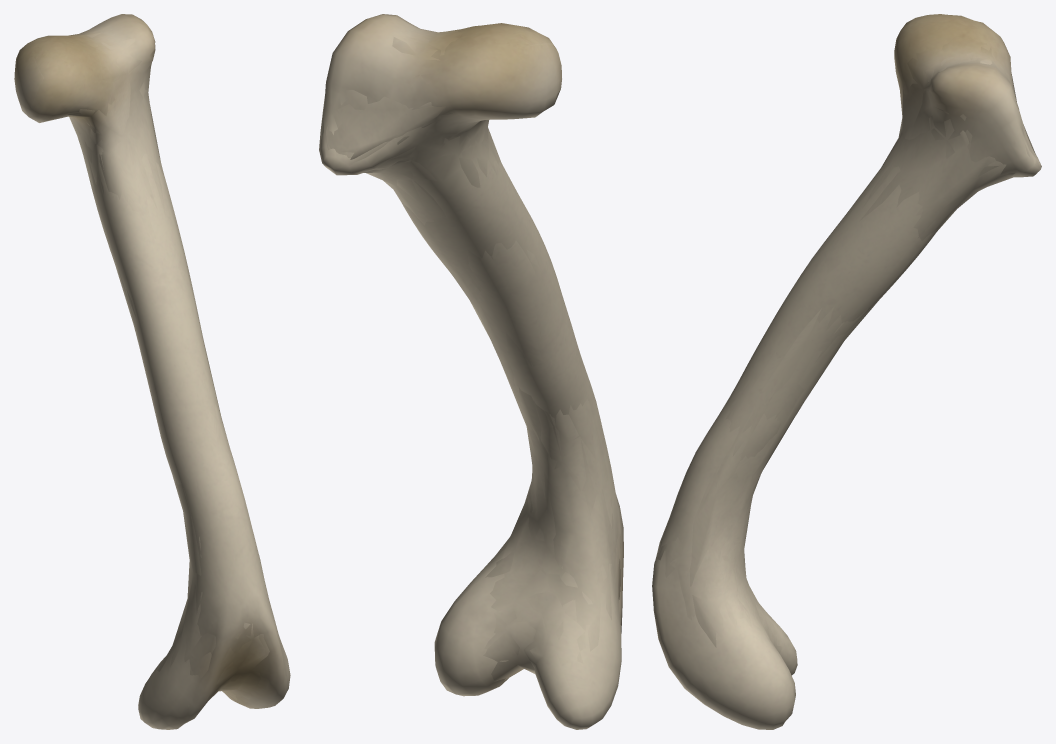
Rendered from L Femur.fbx.
The picture shows the model from 3 angles, left to right: view 1: azimuth 30°, elevation 25°; view 2: azimuth 150°, elevation 25°; view 3: azimuth 270°, elevation 25°; orthographic projection. The views are drawn at different scales.
Parts seen in each view (by area): view 1: L Femur high, L Femur low, L Femur; view 2: L Femur high, L Femur low, L Femur; view 3: L Femur high, L Femur low, L Femur.
Part boxes in pixels (x1,y1,x2,y2): L Femur high: (14,14,290,729); L Femur low: (67,25,265,728); L Femur: (68,31,271,706); L Femur high: (319,14,623,729); L Femur low: (326,30,620,681); L Femur: (321,20,620,674); L Femur high: (652,14,1041,729); L Femur low: (689,43,1034,692); L Femur: (657,35,1035,653).
Bounding box in the file's own units: 8.33 × 28.42 × 15.34.
